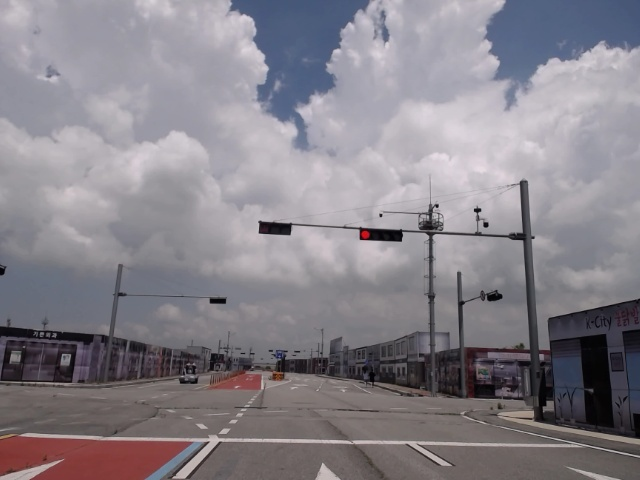red_4: (360, 229, 402, 242)
